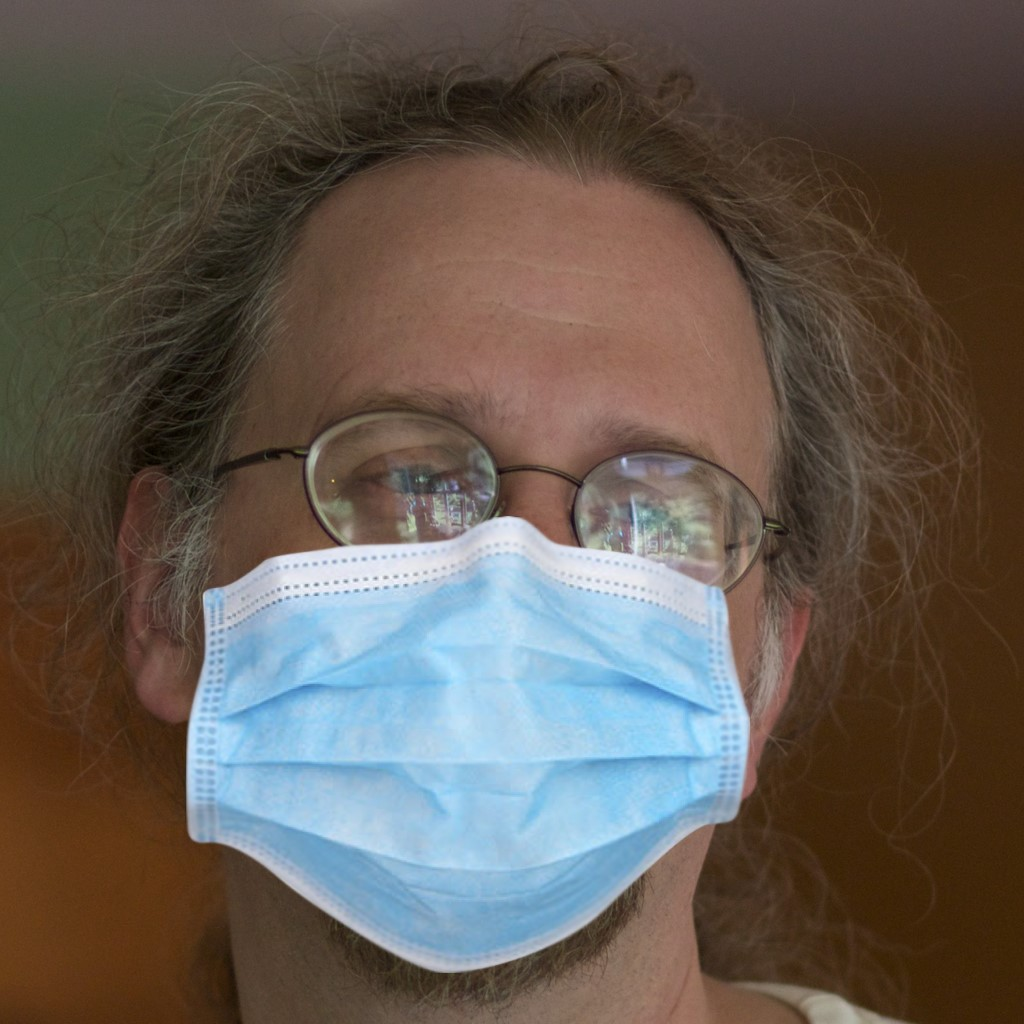con_mascara: (181, 150, 794, 958)
